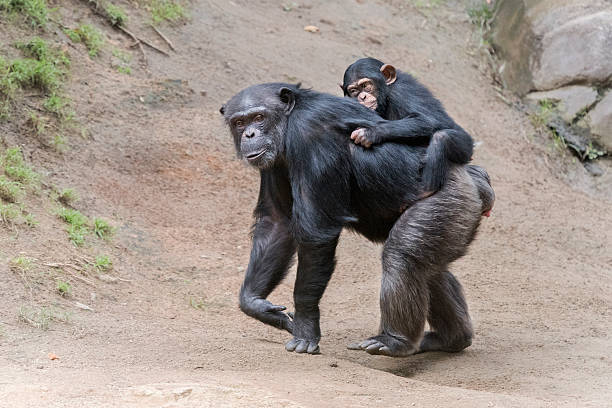chimpanzee: (205, 81, 302, 177), (339, 48, 413, 126)
